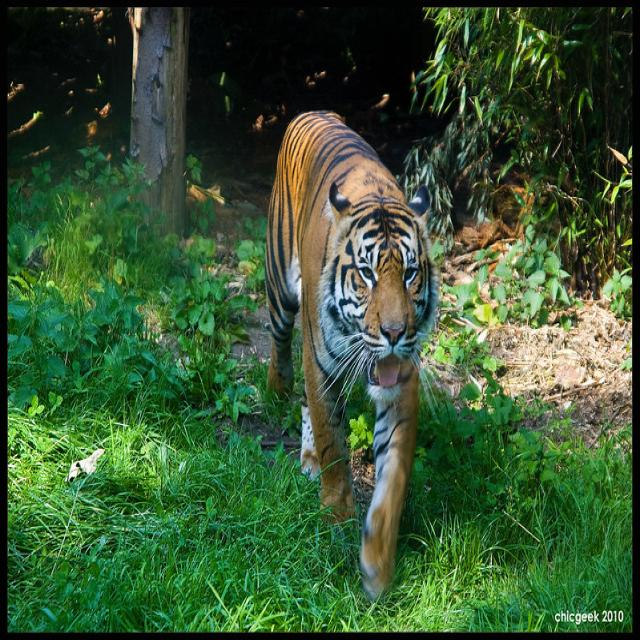Tiger: (259, 107, 443, 604)
